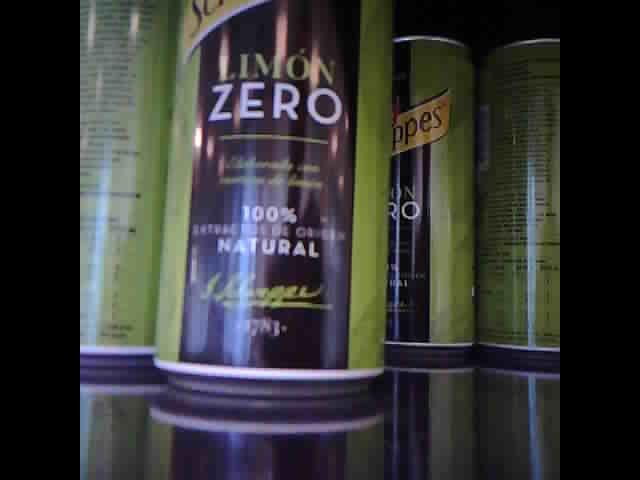schweppes: (152, 1, 398, 393), (78, 1, 177, 372), (383, 40, 475, 358), (478, 20, 559, 360)
